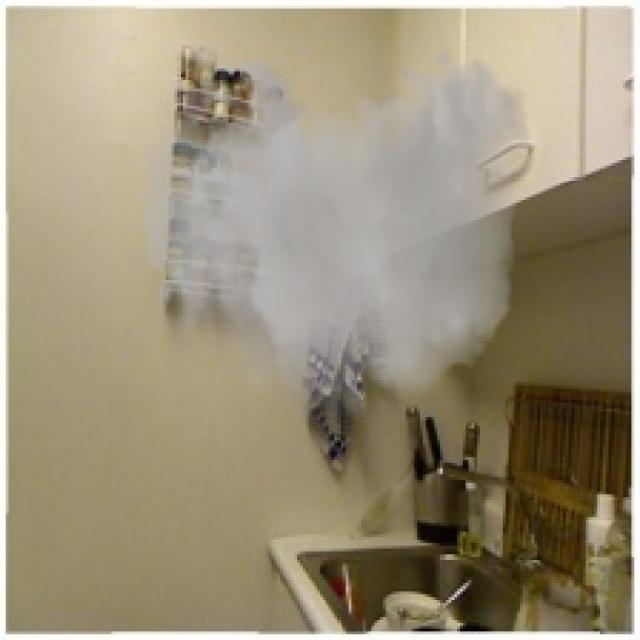smoke: (143, 46, 531, 448)
